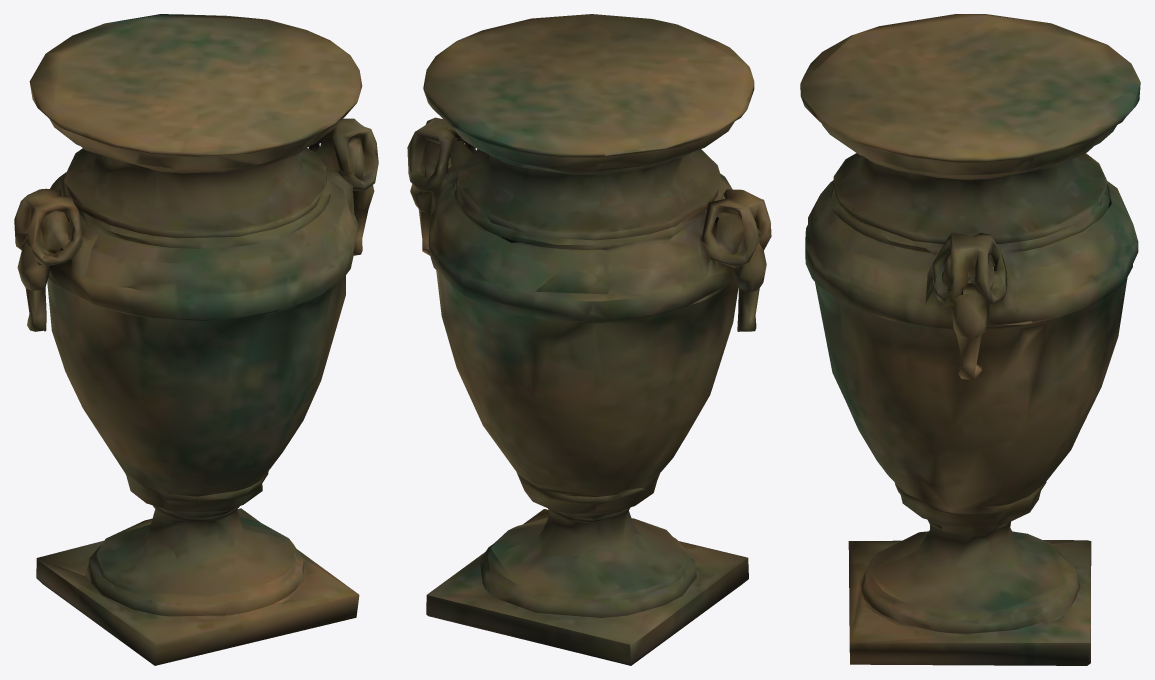
File: worn-bronze-urn-v001.glb
3 renders of one model, left to right at view 1: azimuth 30°, elevation 25°; view 2: azimuth 150°, elevation 25°; view 3: azimuth 270°, elevation 25°, orthographic. The views are drawn at different scales.
Parts seen in each view (by area): view 1: worn-bronze-urn; view 2: worn-bronze-urn; view 3: worn-bronze-urn.
Boxes of the visible parts, x1,y1,x2,y2 form: worn-bronze-urn: (14, 14, 378, 665); worn-bronze-urn: (407, 14, 771, 665); worn-bronze-urn: (800, 14, 1140, 665).
Bounding box in the file's own units: 0.5776 × 0.8191 × 0.4736.
Materials: 1 (1 with a texture image).
